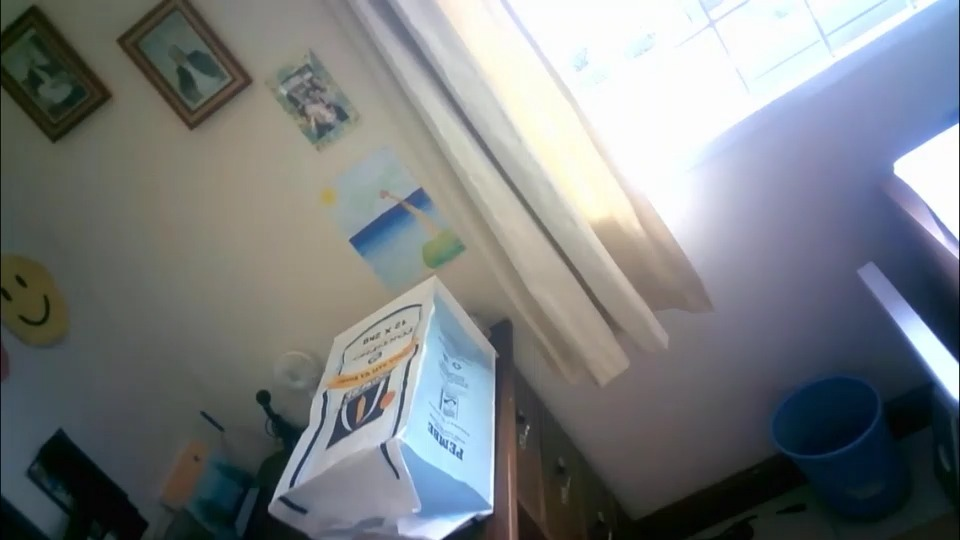wheat_flour_blue_label: (263, 275, 492, 535)
